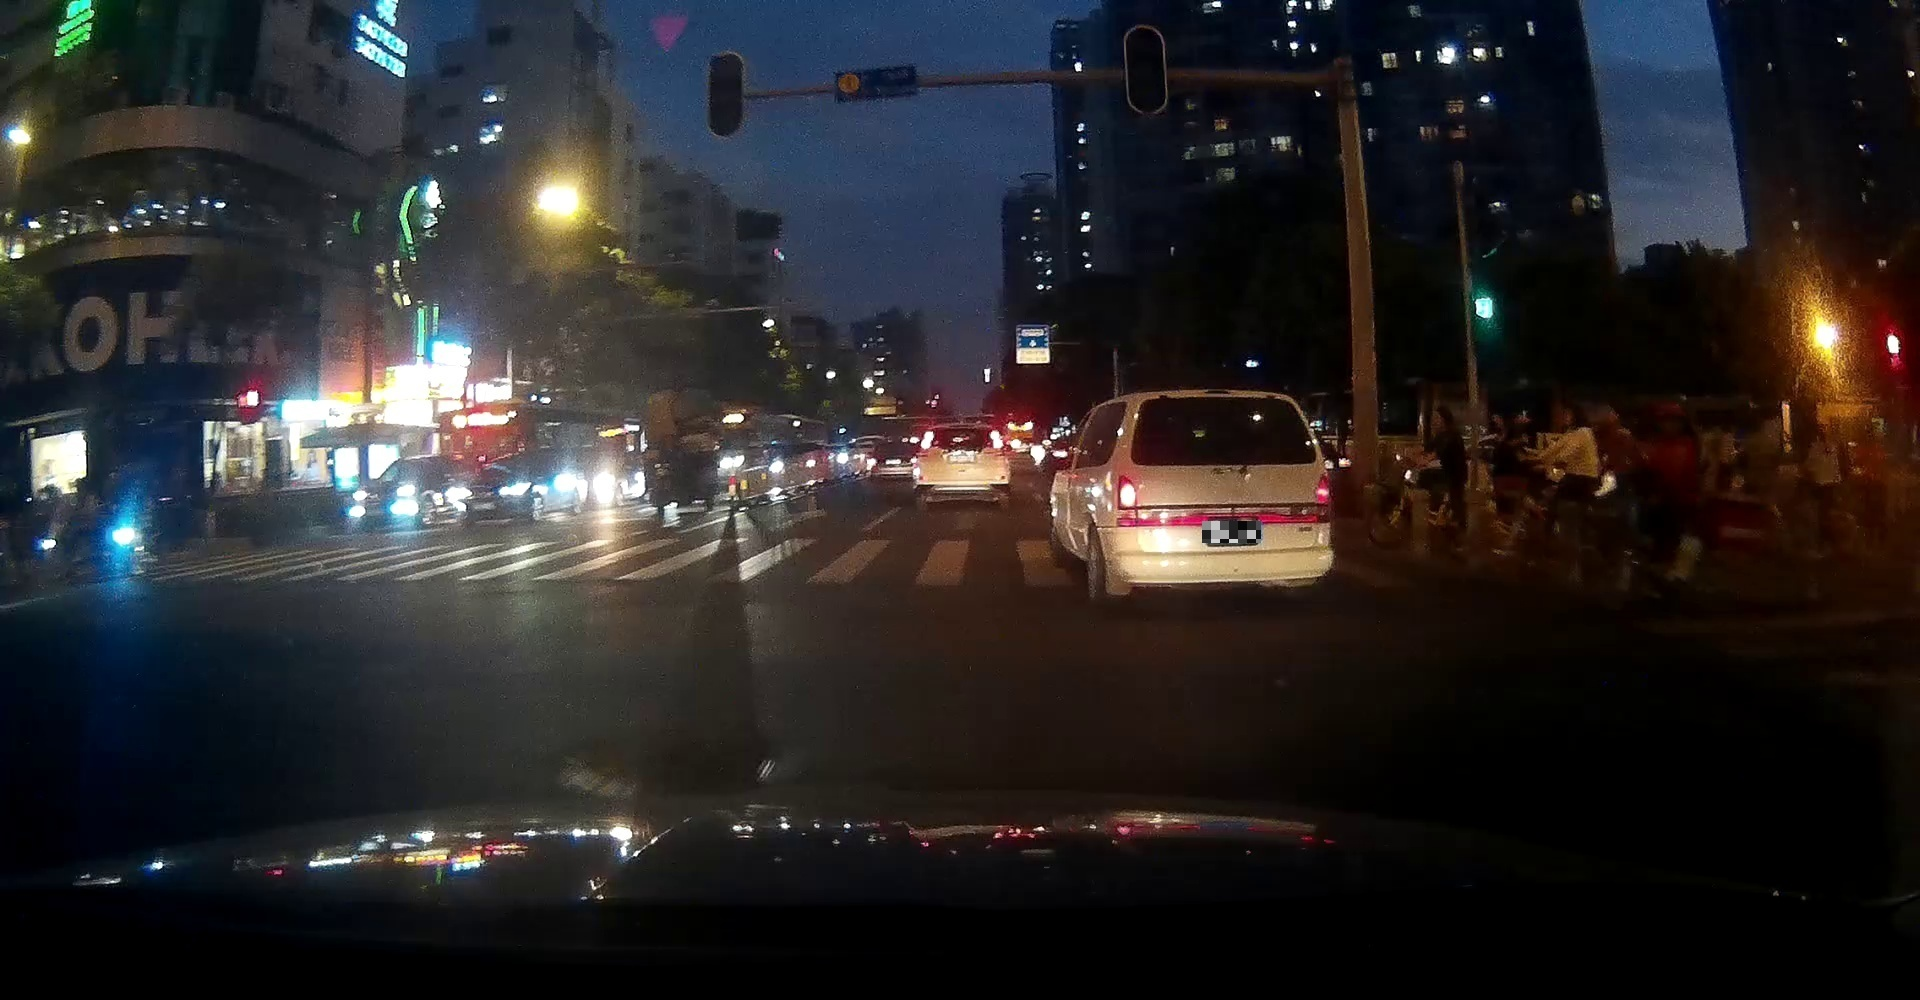L_light: (1116, 475, 1138, 527), (916, 430, 935, 456)
R_light: (1316, 475, 1332, 523), (990, 429, 1006, 456)
T_light: (1203, 396, 1241, 404), (949, 423, 975, 426)
night-no: (1112, 390, 1333, 607), (912, 423, 1010, 513)
plate_1: (1203, 522, 1261, 543)
